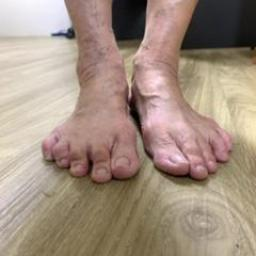Plantar View -Both Feet-: (36, 31, 237, 188)
